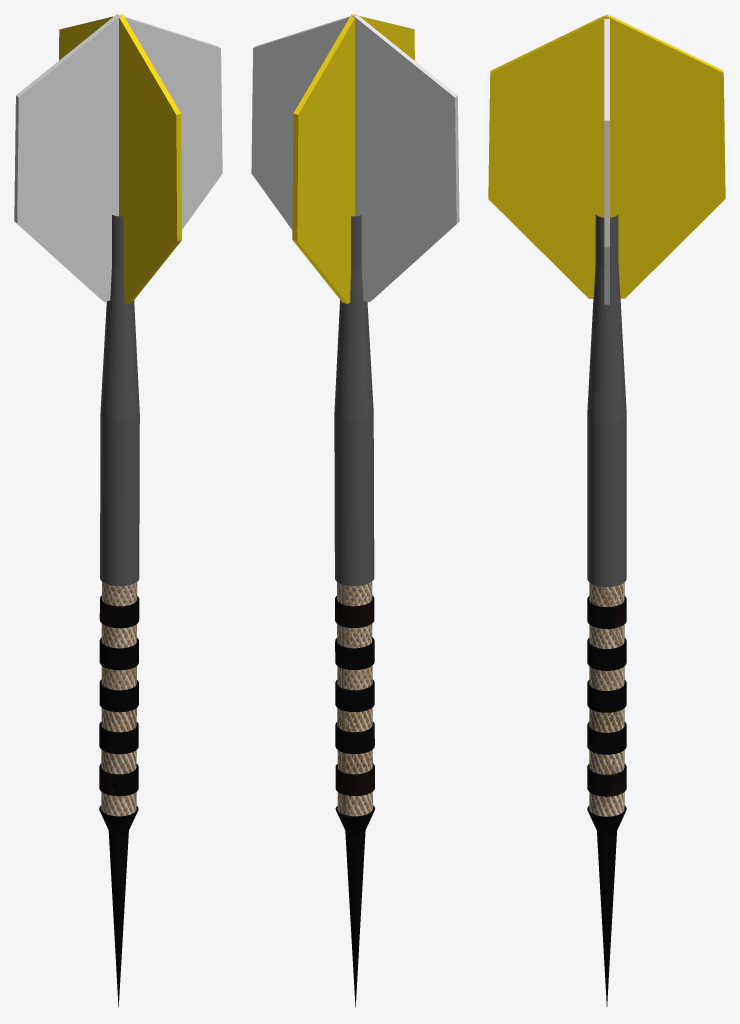
Rendered from FinalDart 1.fbx.
3 views of the same model, side by side, from view 1: azimuth 30°, elevation 25°; view 2: azimuth 150°, elevation 25°; view 3: azimuth 270°, elevation 25° (orthographic).
Visible parts, largest first — view 1: White Wing.001, Color Wing.001, DartShaft, White Wing, BarrelOuterRings, BarrelInnerRings, Point, Color Wing, TipScrew; view 2: White Wing.001, Color Wing, DartShaft, White Wing, BarrelOuterRings, BarrelInnerRings, Point, Color Wing.001, TipScrew; view 3: Color Wing.001, Color Wing, DartShaft, BarrelOuterRings, BarrelInnerRings, Point, White Wing, TipScrew.
Part boxes in pixels (bbox=[...]): White Wing.001: bbox=[14, 14, 119, 301]; Color Wing.001: bbox=[118, 14, 182, 303]; DartShaft: bbox=[100, 215, 139, 586]; White Wing: bbox=[118, 14, 222, 229]; BarrelOuterRings: bbox=[99, 595, 139, 796]; BarrelInnerRings: bbox=[101, 582, 137, 816]; Point: bbox=[108, 831, 128, 1007]; Color Wing: bbox=[59, 15, 117, 60]; TipScrew: bbox=[99, 805, 138, 834]; White Wing.001: bbox=[354, 14, 459, 302]; Color Wing: bbox=[292, 14, 356, 303]; DartShaft: bbox=[334, 215, 374, 585]; White Wing: bbox=[251, 14, 355, 229]; BarrelOuterRings: bbox=[335, 595, 374, 795]; BarrelInnerRings: bbox=[337, 581, 372, 816]; Point: bbox=[345, 830, 365, 1007]; Color Wing.001: bbox=[359, 16, 414, 60]; TipScrew: bbox=[335, 805, 374, 833]; Color Wing.001: bbox=[488, 14, 606, 298]; Color Wing: bbox=[607, 14, 725, 298]; DartShaft: bbox=[587, 214, 626, 586]; BarrelOuterRings: bbox=[587, 596, 626, 796]; BarrelInnerRings: bbox=[589, 582, 624, 816]; Point: bbox=[597, 831, 616, 1006]; White Wing: bbox=[604, 14, 609, 304]; TipScrew: bbox=[587, 805, 626, 834].
Size of the model in its own units: 413 by 1911 by 413.
